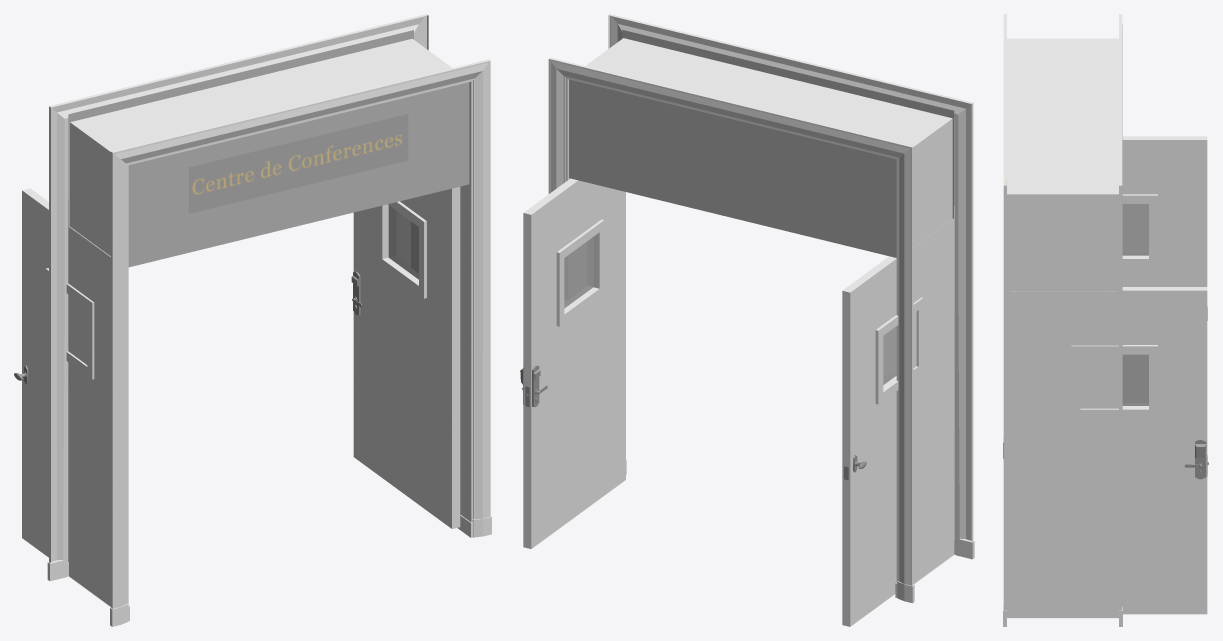
Rendered from CostumeDoor_CDC.fbx.
The picture shows the model from 3 angles, left to right: view 1: azimuth 30°, elevation 25°; view 2: azimuth 150°, elevation 25°; view 3: azimuth 270°, elevation 25°; orthographic projection. The views are drawn at different scales.
Visible parts, largest first — view 1: polySurface417, polySurface432, polySurface419, polySurface366; view 2: polySurface417, polySurface432, polySurface419, polySurface366, polySurface368; view 3: polySurface417, polySurface432, polySurface419, polySurface368, polySurface366.
Boxes of the visible parts, x1,y1,x2,y2 form: polySurface417: [47, 14, 491, 626]; polySurface432: [351, 186, 460, 528]; polySurface419: [14, 188, 94, 557]; polySurface366: [388, 205, 418, 279]; polySurface417: [548, 14, 974, 603]; polySurface432: [520, 178, 625, 548]; polySurface419: [842, 256, 923, 626]; polySurface366: [564, 237, 593, 308]; polySurface368: [883, 326, 896, 384]; polySurface417: [1003, 14, 1122, 626]; polySurface432: [1071, 287, 1208, 614]; polySurface419: [1122, 136, 1207, 320]; polySurface368: [1122, 204, 1148, 255]; polySurface366: [1122, 354, 1148, 405].
Size of the model in its own units: 242 by 289 by 122.
